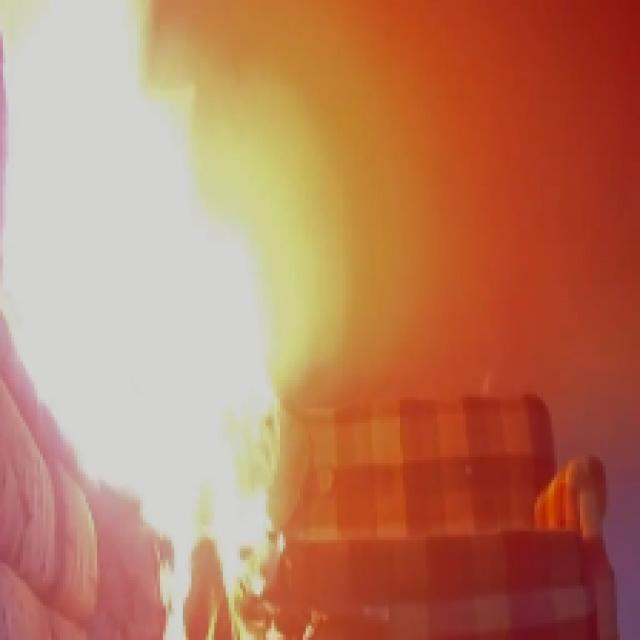fire: (8, 19, 244, 610)
